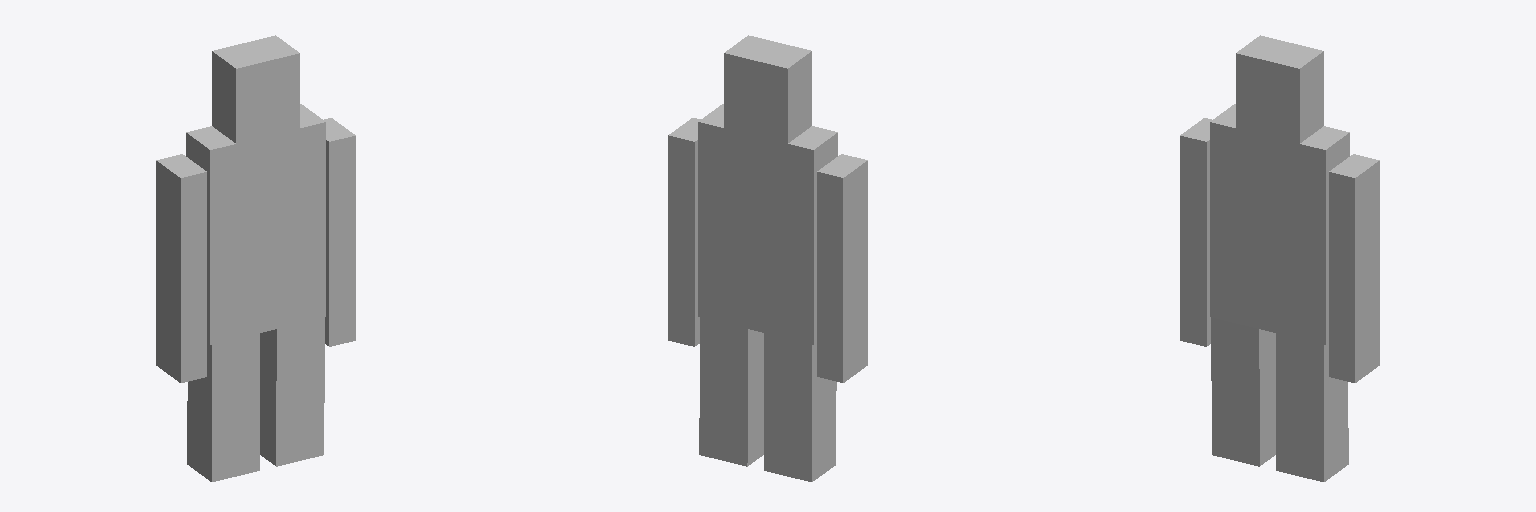
File: player.obj
3 views of the same model, side by side, from view 1: azimuth 30°, elevation 25°; view 2: azimuth 150°, elevation 25°; view 3: azimuth 330°, elevation 25° (orthographic).
Visible parts, largest first — view 1: Torso, ArmRight, LegRight, LegLeft, Head, ArmLeft; view 2: Torso, ArmRight, LegRight, LegLeft, Head, ArmLeft; view 3: Torso, ArmLeft, LegLeft, LegRight, Head, ArmRight.
Boxes of the visible parts, box(x1,y1,x2,y2) form: Torso: box(186, 104, 325, 344); ArmRight: box(156, 154, 206, 382); LegRight: box(187, 333, 259, 481); LegLeft: box(260, 317, 324, 466); Head: box(212, 35, 299, 143); ArmLeft: box(324, 118, 355, 346); Torso: box(698, 104, 837, 344); ArmRight: box(817, 154, 867, 382); LegRight: box(764, 333, 836, 481); LegLeft: box(699, 318, 763, 466); Head: box(724, 35, 811, 143); ArmLeft: box(668, 118, 700, 346); Torso: box(1210, 104, 1349, 344); ArmLeft: box(1329, 154, 1379, 382); LegLeft: box(1276, 333, 1348, 481); LegRight: box(1211, 317, 1275, 466); Head: box(1236, 35, 1323, 143); ArmRight: box(1180, 118, 1211, 346).
Size of the model in its own units: 0.822 by 1.83 by 0.1996.